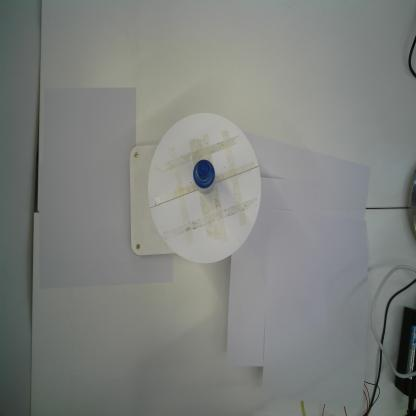Personal Hygiene: (192, 159, 216, 194)
